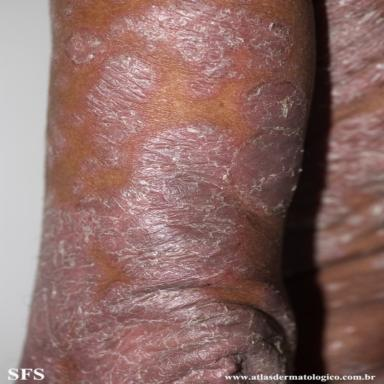Psoriasis: (22, 1, 307, 384), (315, 0, 383, 264), (47, 0, 105, 176)
